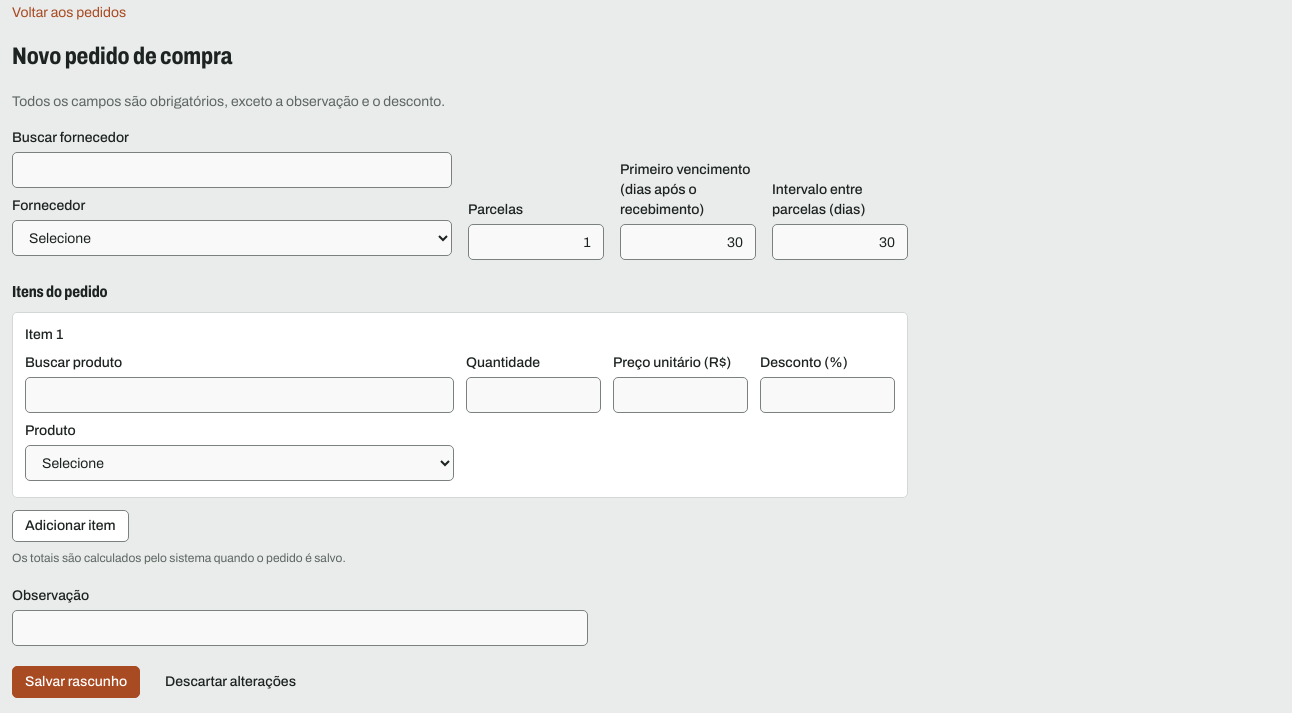
NewPurchaseOrderScreen › refuses a price with a fraction of a cent, and a discount with more than two places
The width and height of the screenshot is (1292, 713).
Select "Cimentos Bahia" in the dropdown labelled "Fornecedor" at (232, 238), box left=12, top=220, right=452, bottom=256
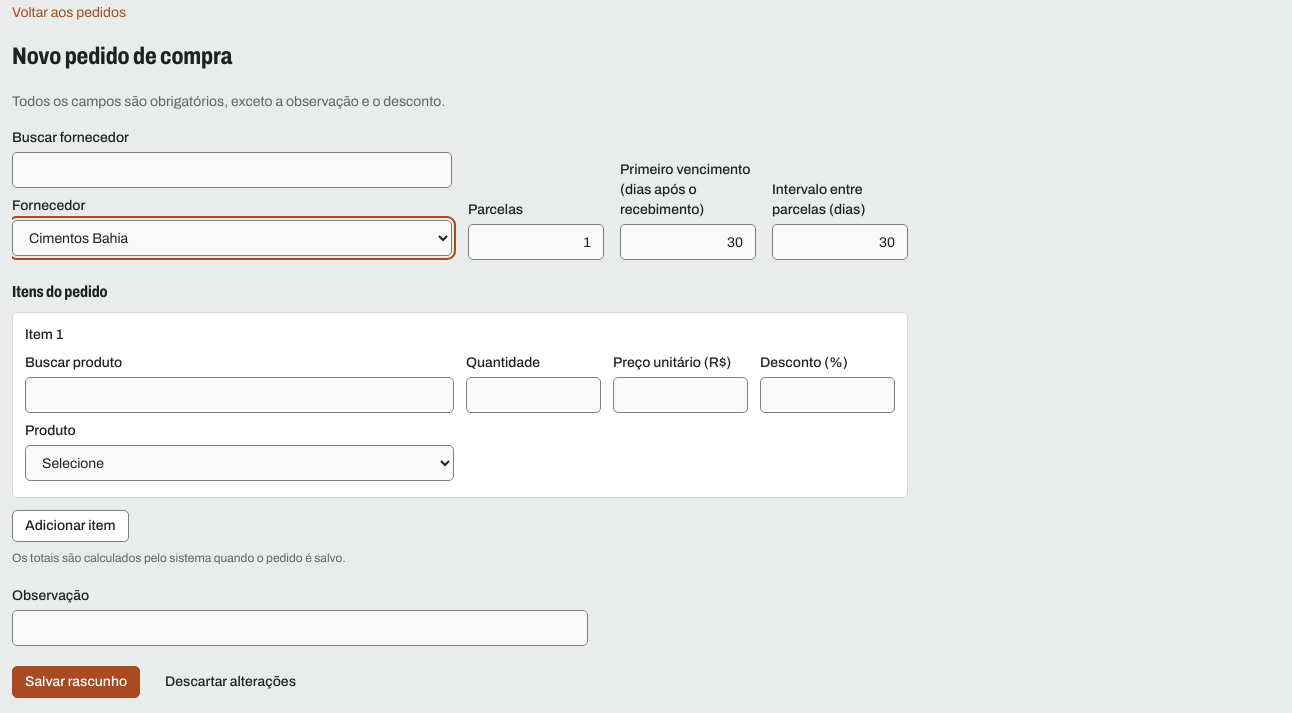
Select "Cimento CP II (CIM-001)" in the dropdown labelled "Produto" at (240, 463), box left=25, top=445, right=454, bottom=481
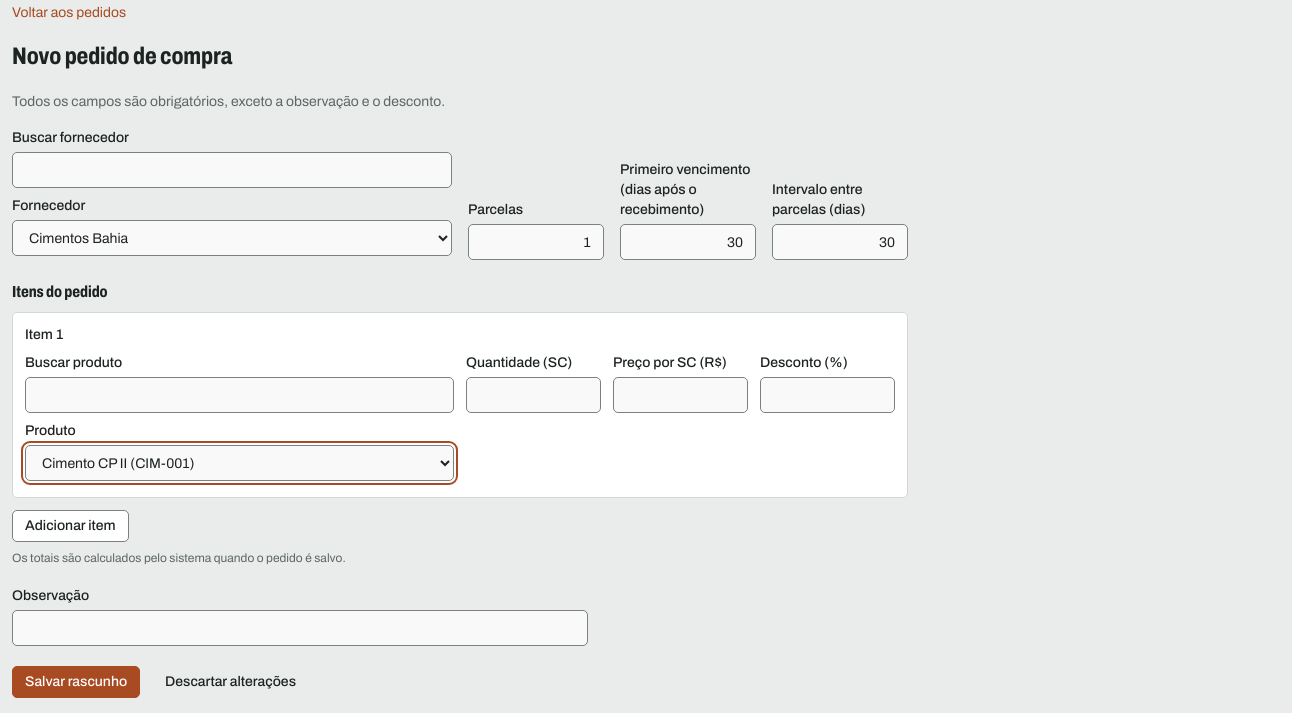
Type "1" into the field labelled "Quantidade (SC)" at (534, 395), box left=466, top=377, right=601, bottom=413
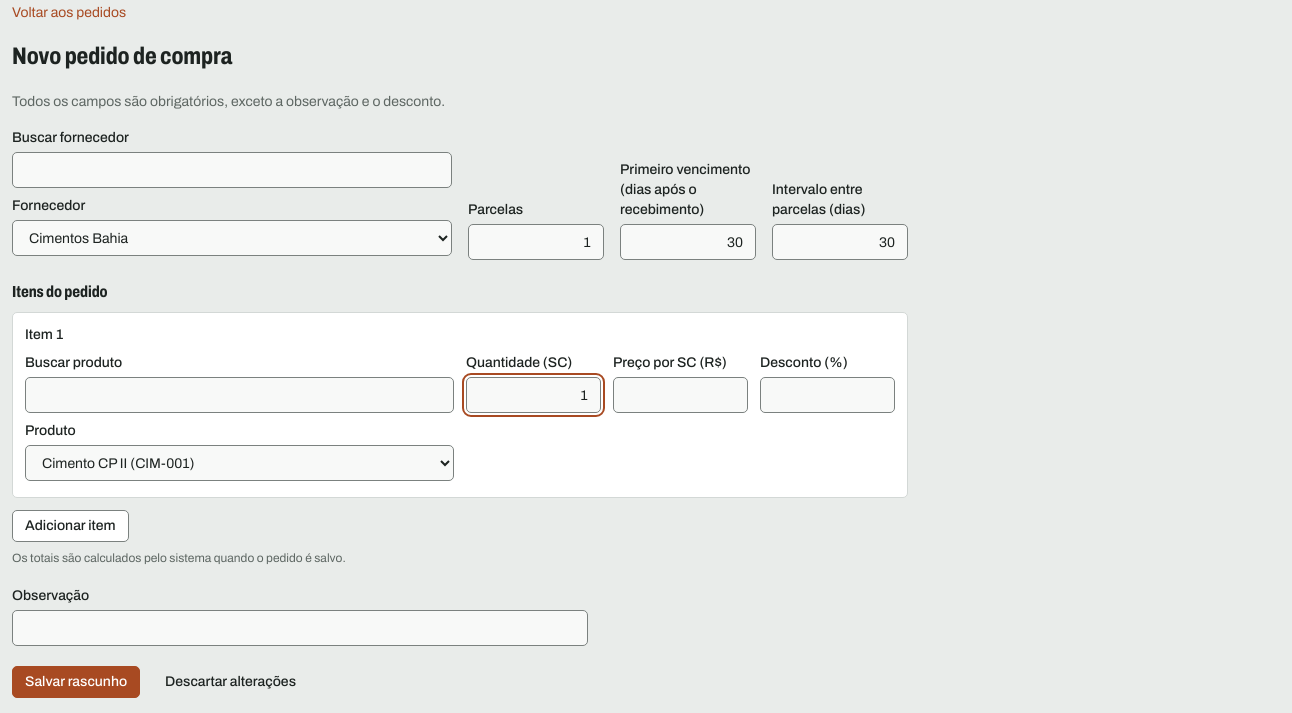
Type "0,8499" into the field labelled "Preço por SC (R$)" at (680, 395), box left=613, top=377, right=748, bottom=413
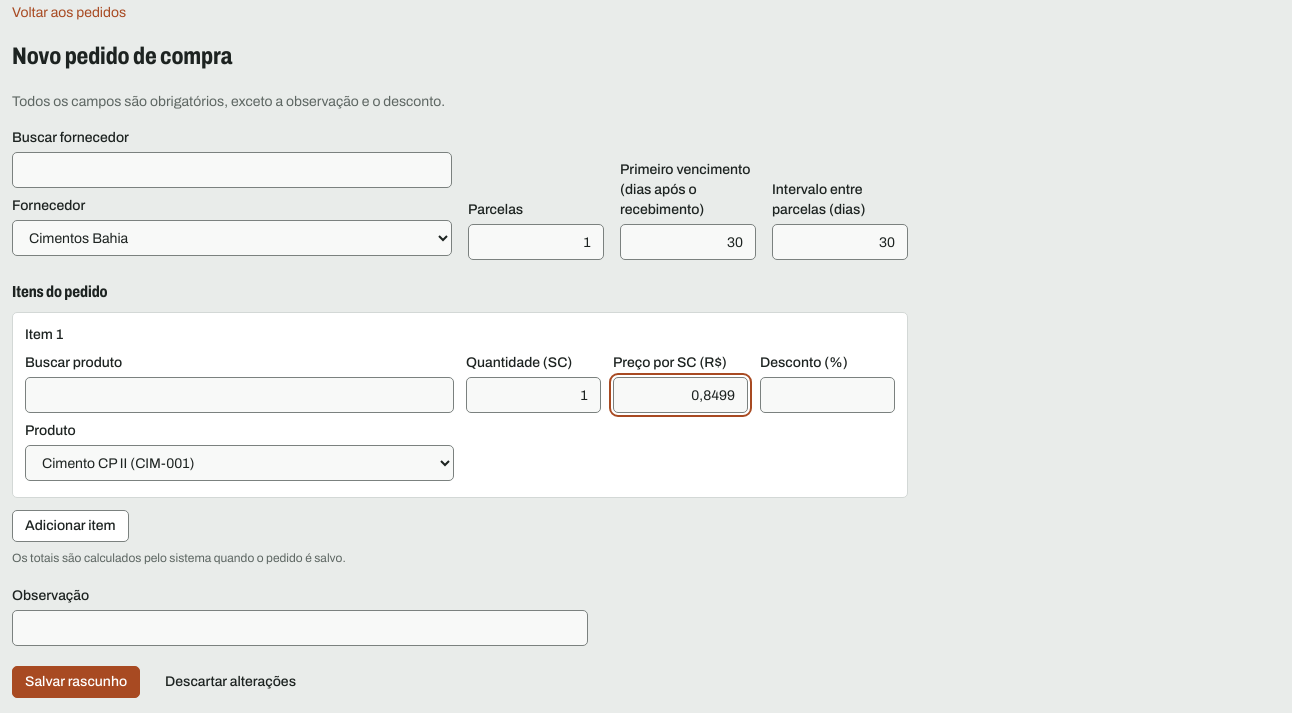
Type "0,001" into the field labelled "Desconto (%)" at (828, 395), box left=760, top=377, right=895, bottom=413
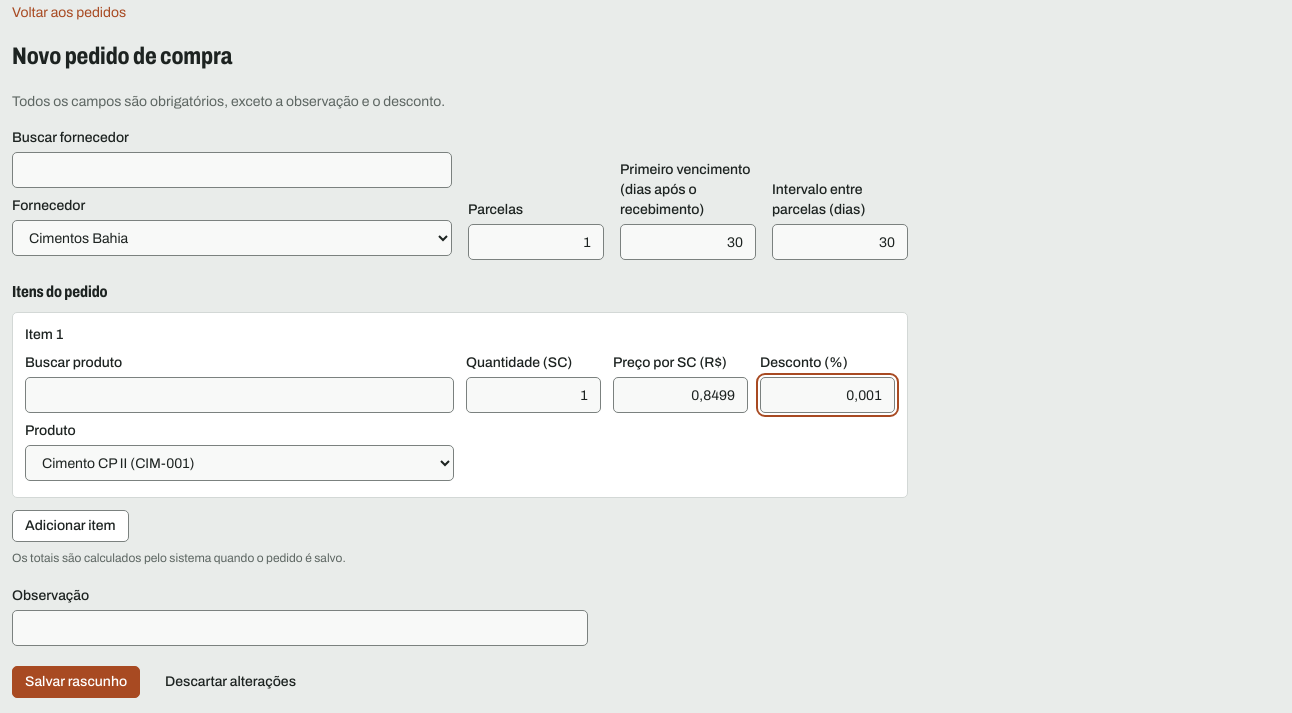
Click the button "Salvar rascunho" at (76, 682), box left=12, top=666, right=140, bottom=698
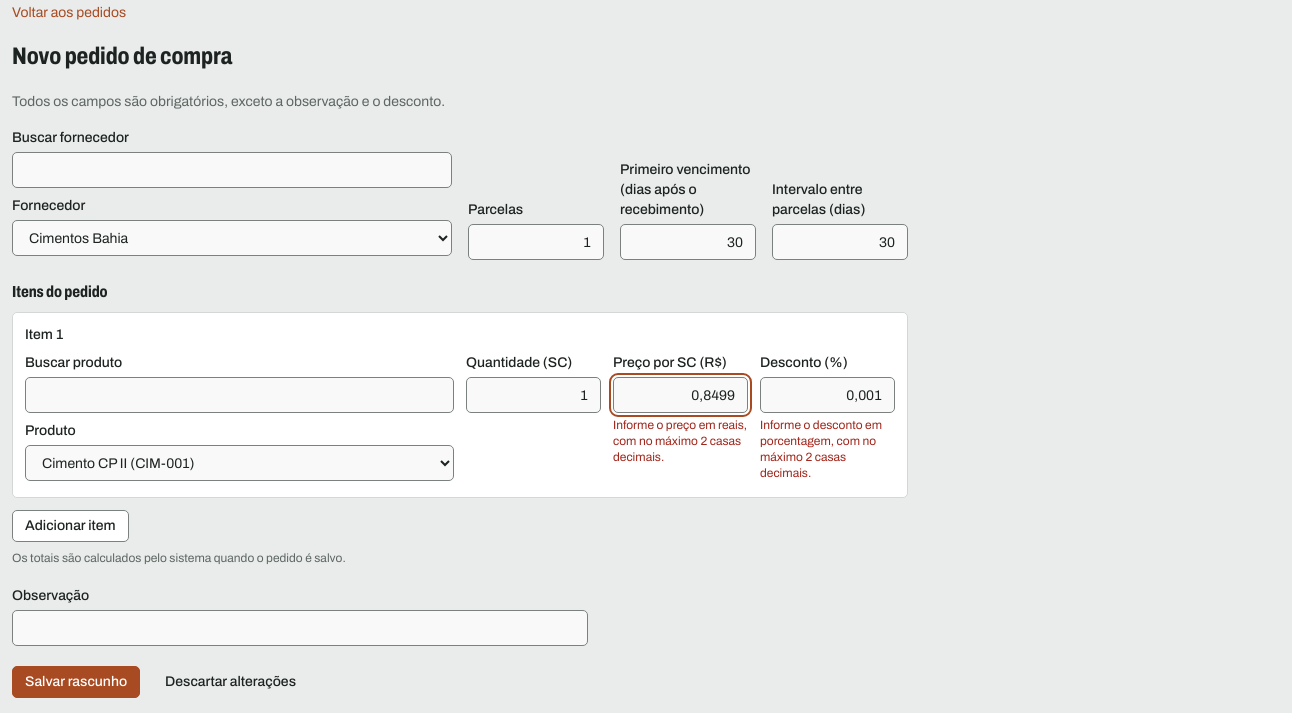
Expected: the text "Informe o preço em reais, com no máximo 2 casas decimais." is shown, left=613, top=417, right=748, bottom=465
Expected: the text "Informe o desconto em porcentagem, com no máximo 2 casas decimais." is shown, left=760, top=417, right=895, bottom=481
